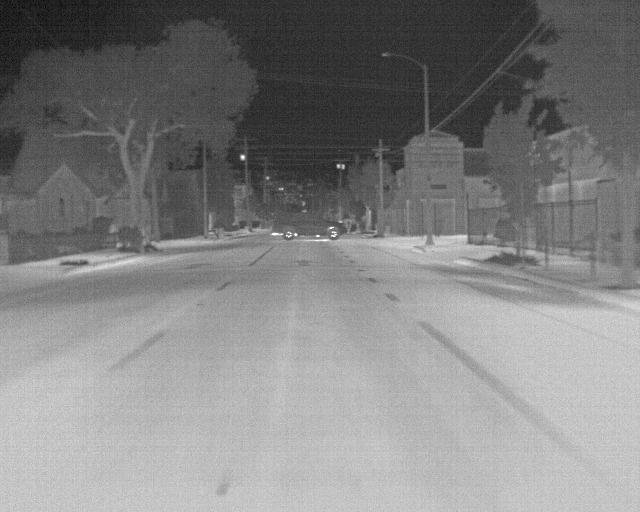car: (268, 209, 348, 240)
